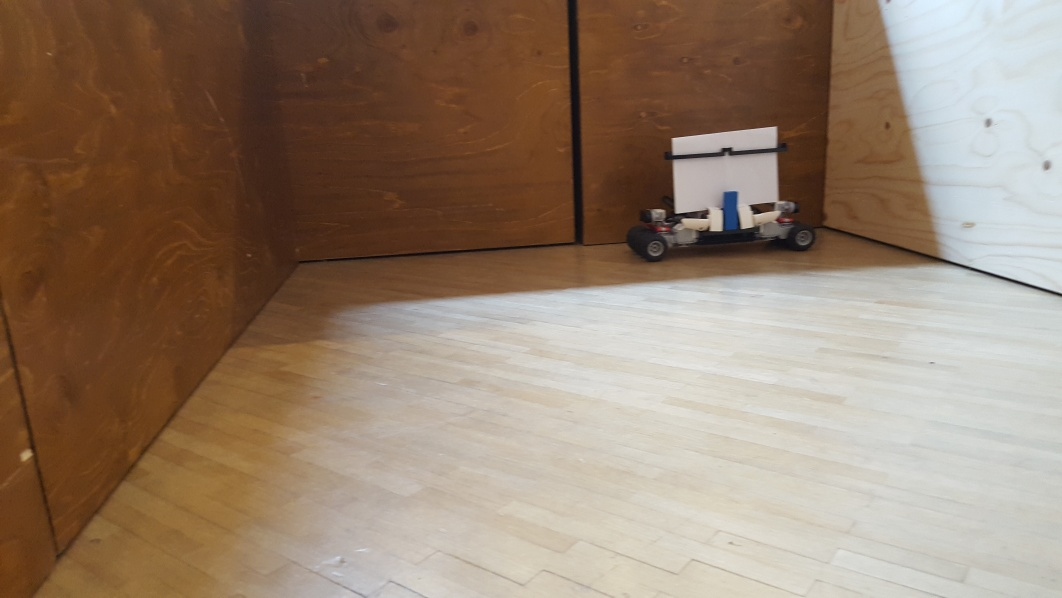beam: (721, 189, 740, 236)
